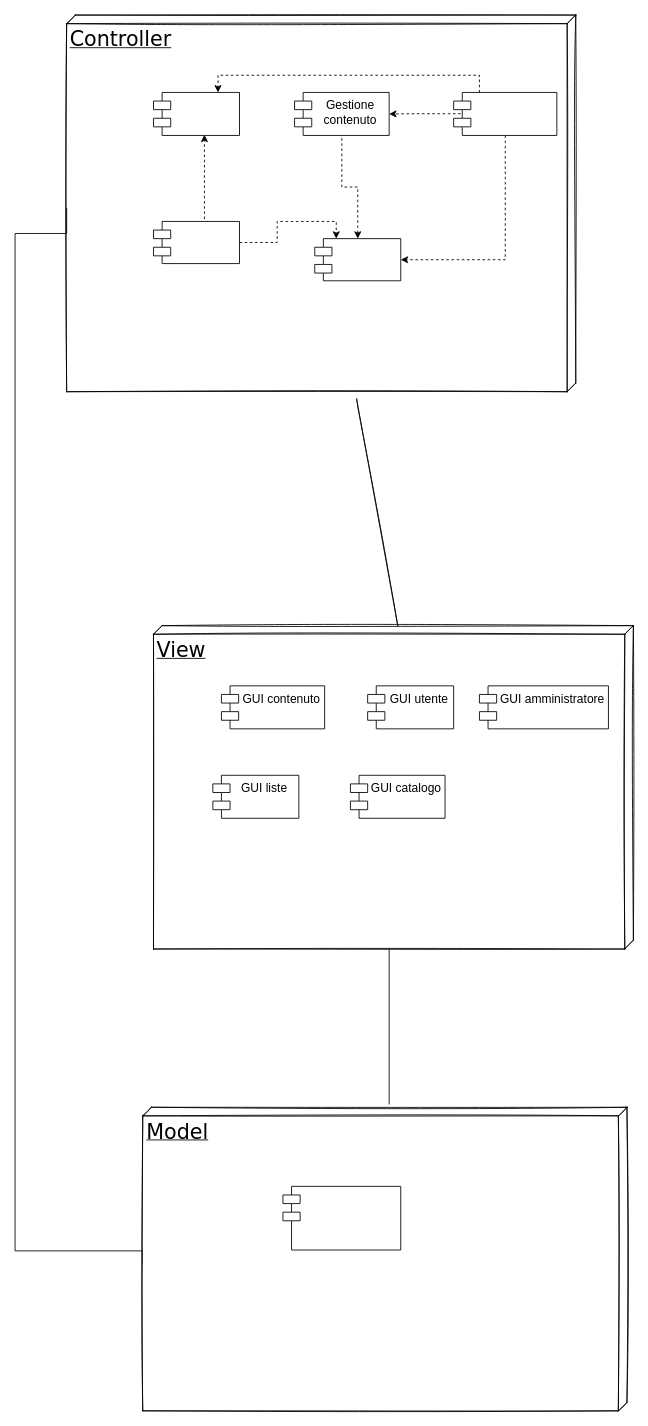
Image size: 648x1426. Some labels were removed from this diagram. The box of each missing label's shape, as (x1, y1, x2, y2) in pixels:
Dati Persistenti: (282, 1186, 401, 1250)
Gestione amministratore: (453, 92, 557, 135)
Gestione lista: (153, 92, 240, 135)
Gestione recensione: (314, 238, 401, 281)
Gestione utente: (153, 221, 240, 264)
